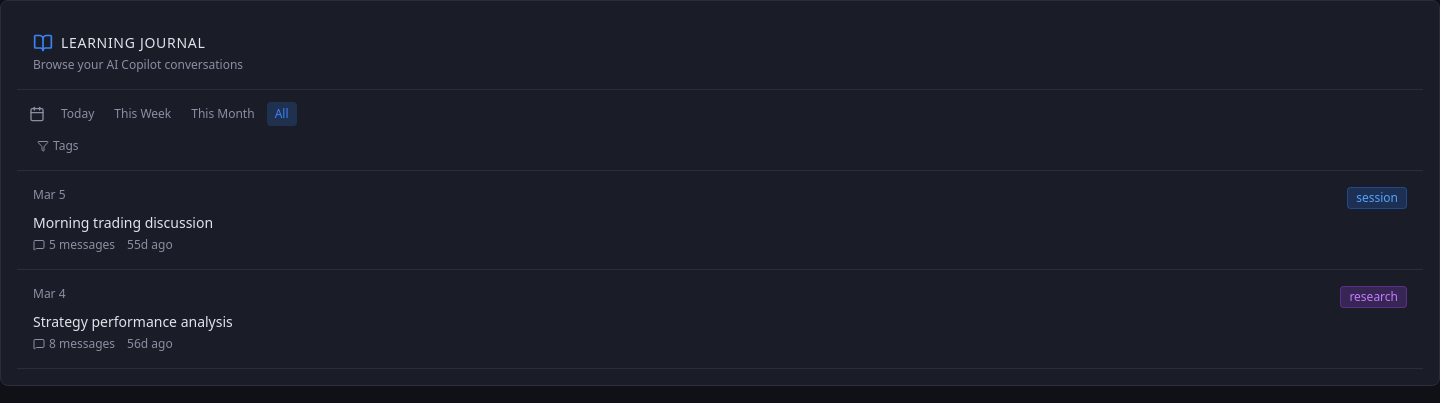
ConversationBrowser › opens conversation detail view when clicking a conversation
# Click on the first conversation
Click the heading "Morning trading discussion": (123, 222) [33, 213, 213, 232]
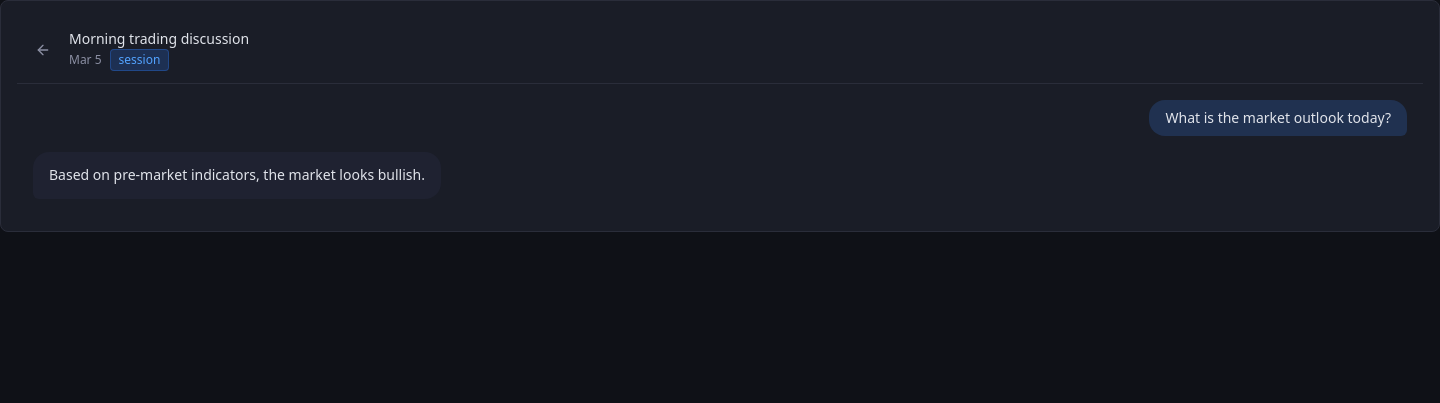
Result: the text "What is the market outlook today?" is shown at [1166, 108, 1391, 128]
